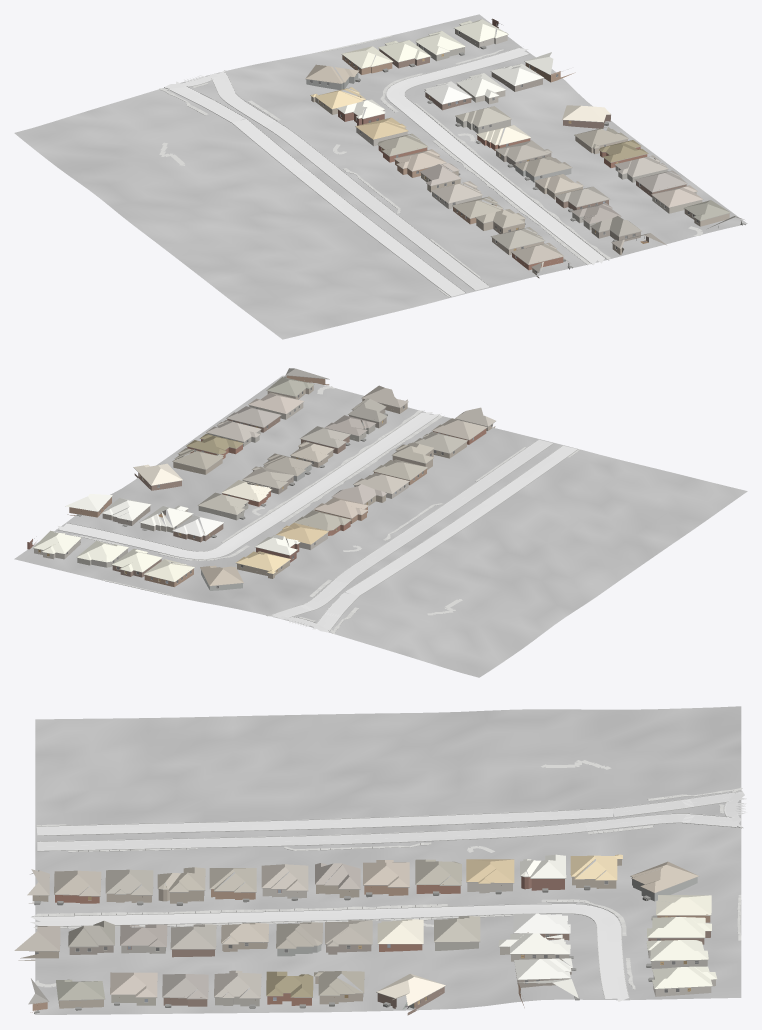
3 renders of one model, top to bottom at view 1: azimuth 30°, elevation 25°; view 2: azimuth 150°, elevation 25°; view 3: azimuth 270°, elevation 25°, orthographic. The views are drawn at different scales.
Visible parts, largest first — view 1: ground, roof, asphalt, wall, concrete, wall_stucco, walk, detail, curb, mark_w; view 2: ground, roof, asphalt, wall, concrete, wall_stucco, walk, curb, detail, mark_w; view 3: ground, roof, asphalt, concrete, wall, curb, wall_stucco, walk, detail, mark_w, mark_y.
Part boxes in pixels (<box>): ground: <box>14,14,747,339</box>; roof: <box>305,19,744,272</box>; asphalt: <box>165,70,489,296</box>; wall: <box>311,18,686,278</box>; concrete: <box>386,48,604,265</box>; wall_stucco: <box>306,25,729,255</box>; walk: <box>159,35,702,297</box>; detail: <box>305,19,745,273</box>; curb: <box>159,36,608,296</box>; mark_w: <box>173,76,488,296</box>; ground: <box>14,375,747,677</box>; roof: <box>33,368,495,585</box>; asphalt: <box>268,439,577,632</box>; wall: <box>27,375,495,586</box>; concrete: <box>58,412,440,558</box>; wall_stucco: <box>34,386,466,590</box>; walk: <box>71,386,579,633</box>; curb: <box>56,410,579,632</box>; detail: <box>31,375,495,588</box>; mark_w: <box>277,440,576,627</box>; ground: <box>35,706,741,1014</box>; roof: <box>14,854,717,1005</box>; asphalt: <box>36,791,746,850</box>; concrete: <box>30,904,628,1001</box>; wall: <box>18,859,710,1015</box>; curb: <box>31,790,742,999</box>; wall_stucco: <box>58,877,715,1008</box>; walk: <box>33,760,742,989</box>; detail: <box>29,859,716,1013</box>; mark_w: <box>37,793,738,850</box>; mark_y: <box>37,800,734,842</box>.
Size of the model in its own units: 259 by 14.62 by 260.
